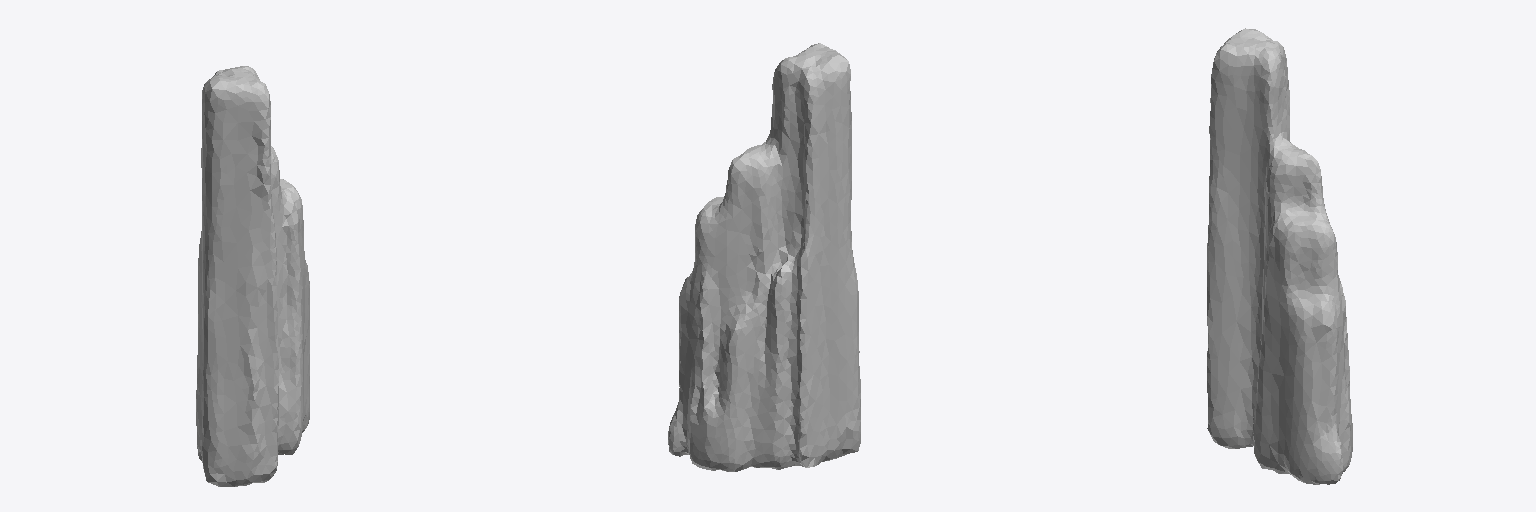
The model's file is Rock04_A.obj.
3 renders of one model, left to right at view 1: azimuth 30°, elevation 25°; view 2: azimuth 150°, elevation 25°; view 3: azimuth 270°, elevation 25°, orthographic.
Visible parts, largest first — view 1: Rock04_A; view 2: Rock04_A; view 3: Rock04_A.
Part boxes in pixels (x1,y1,x2,y2): Rock04_A: (196,66,309,486); Rock04_A: (668,43,860,471); Rock04_A: (1207,28,1352,484).
Size of the model in its own units: 1.36 by 3.64 by 1.2.